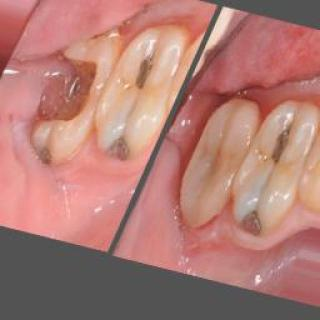cavities: (228, 115, 316, 239), (38, 149, 56, 161)
